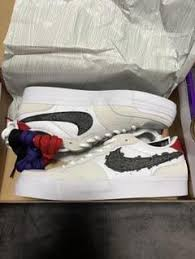nike_pogo_plus_japanese_roots: (12, 129, 195, 202), (18, 84, 177, 154)
